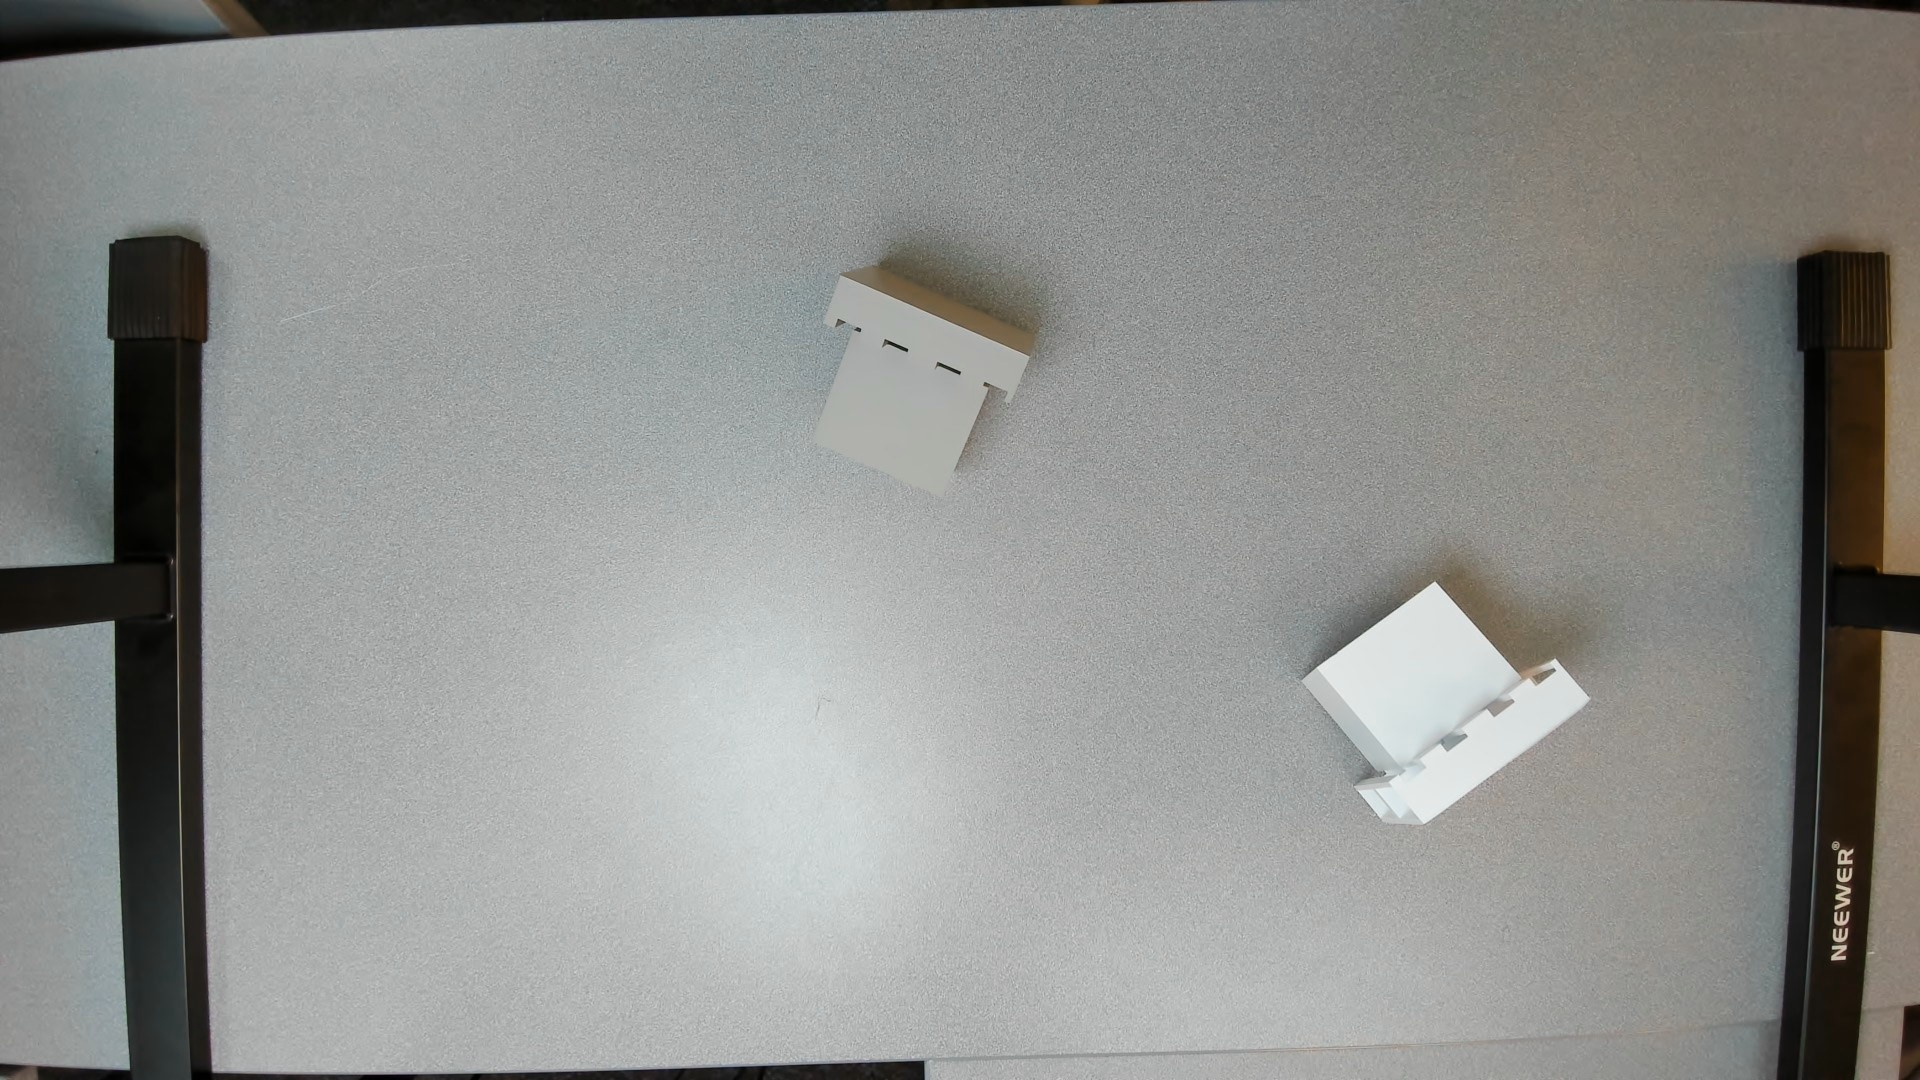grey pallet: (800, 258, 1038, 510)
white pallet: (1291, 572, 1593, 844)
